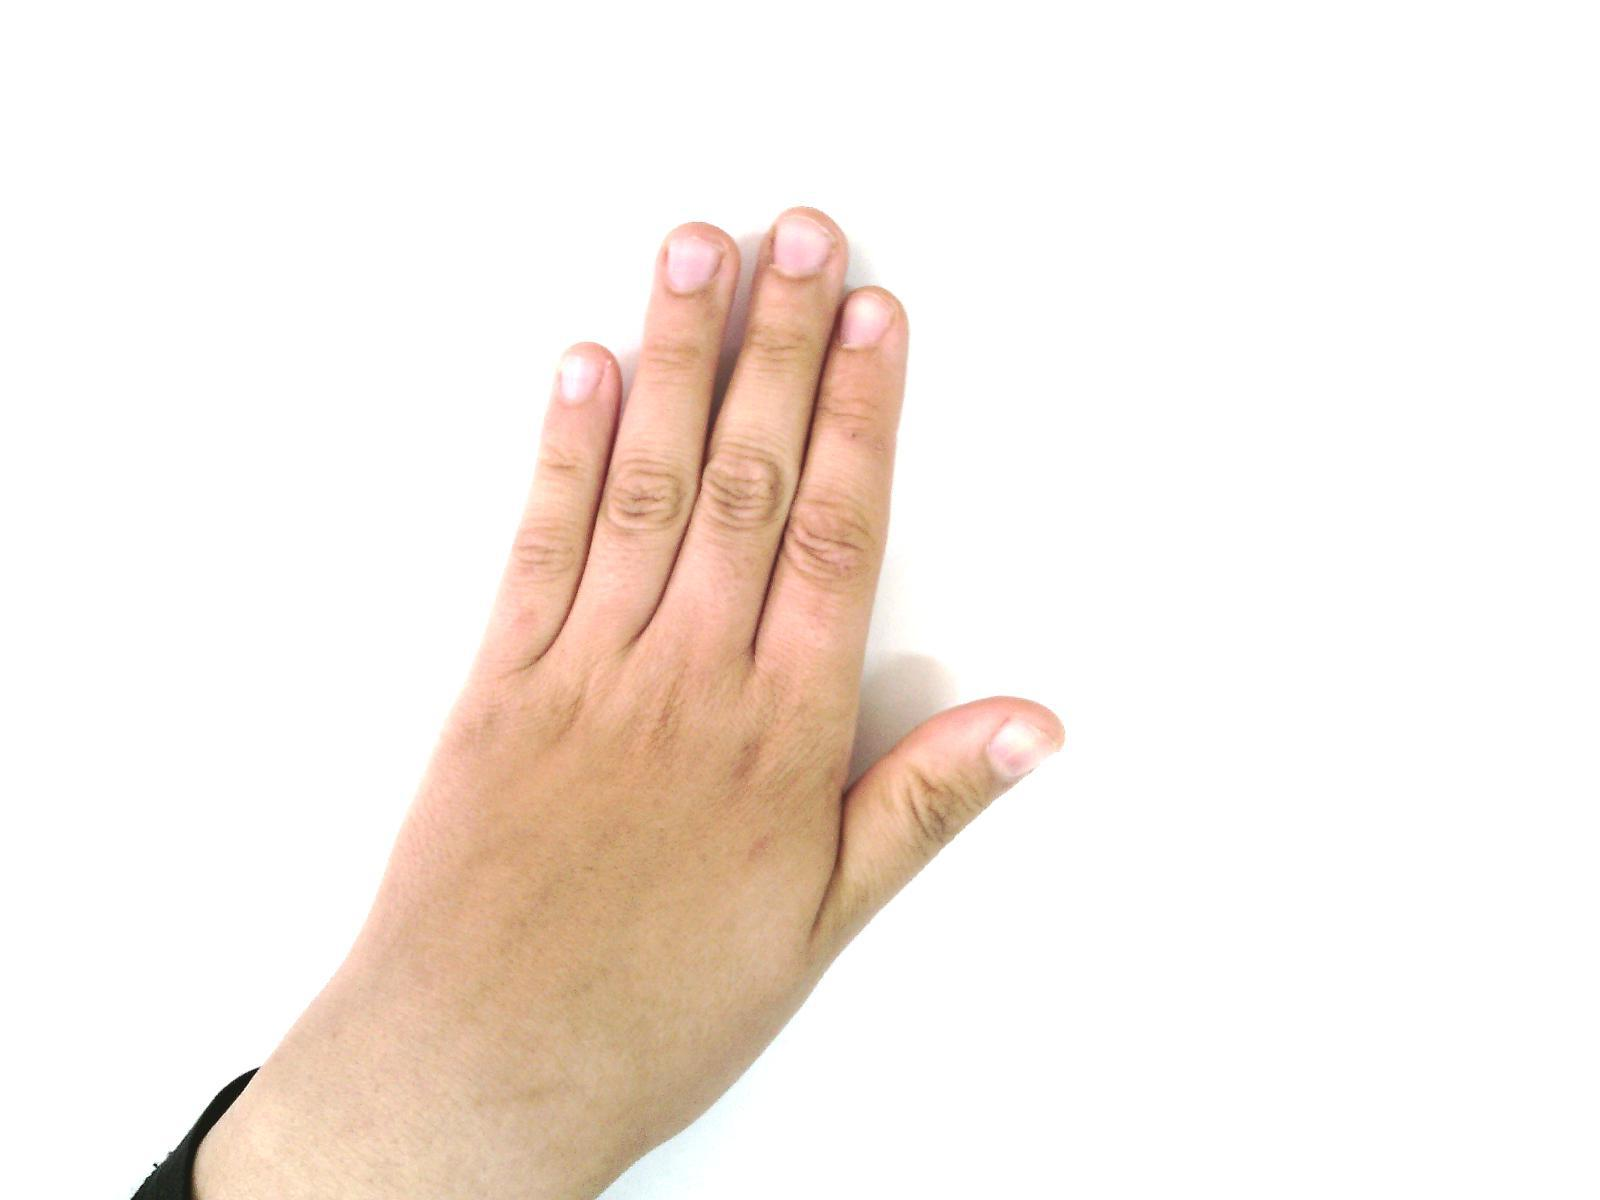hand: (370, 205, 1070, 1137)
